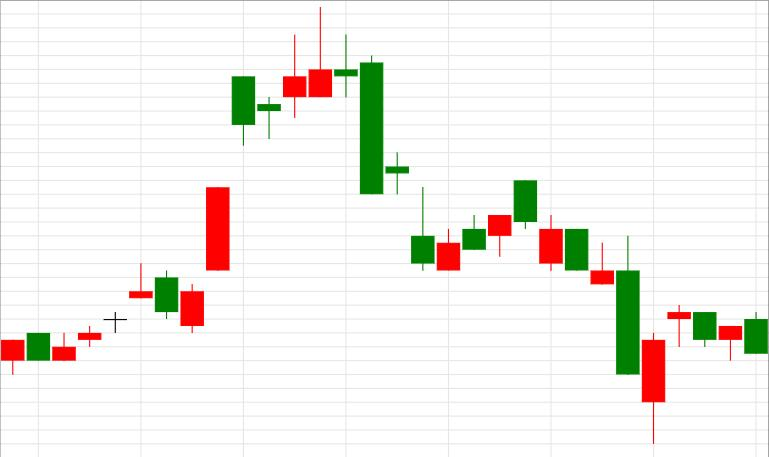inverse_hammer_rise: (334, 34, 434, 271)
shooting_star_fall: (181, 7, 332, 332)
